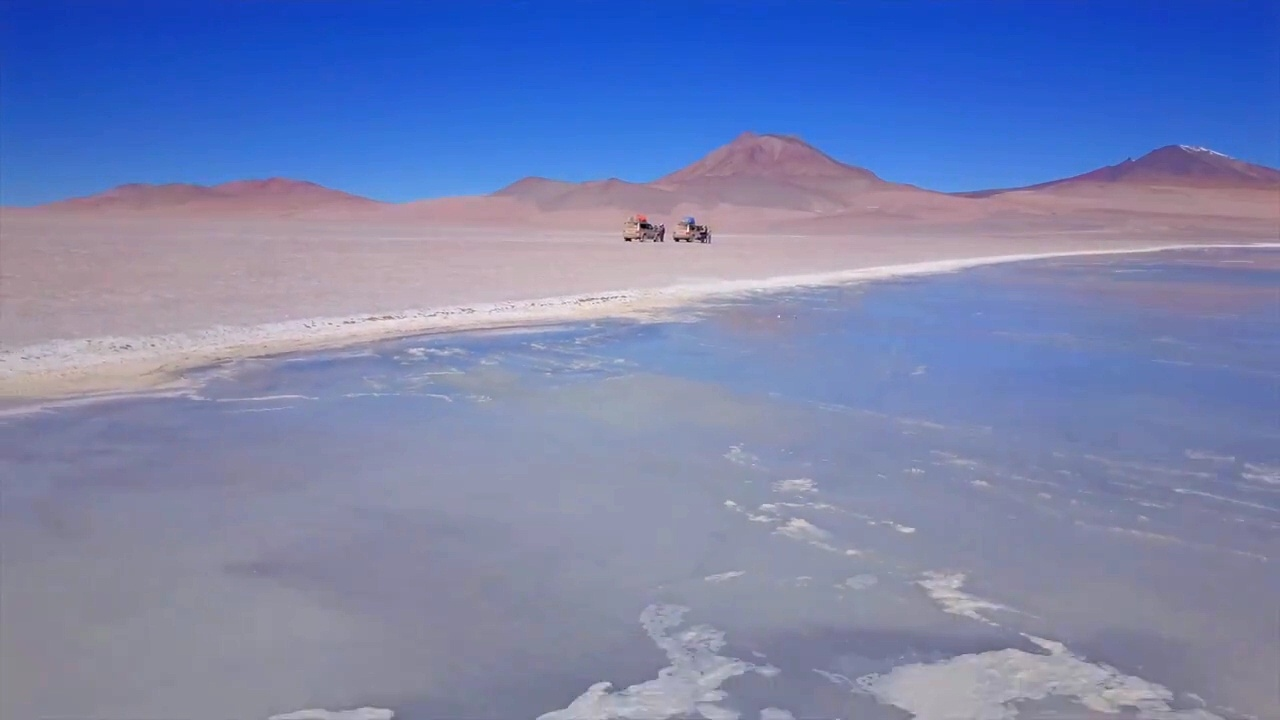araba: (623, 218, 661, 246), (673, 219, 711, 245)
